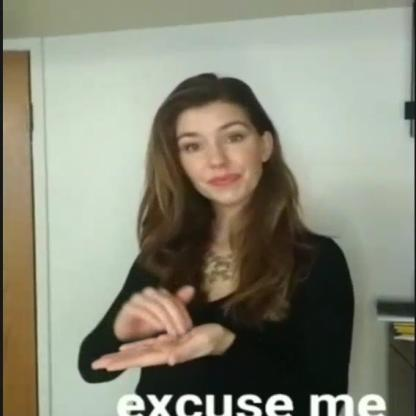ExcuseMe: (81, 278, 231, 384)
